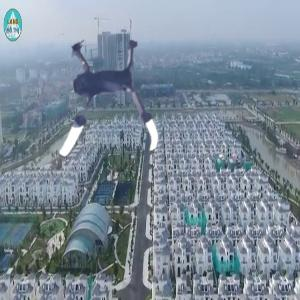drone: (25, 21, 180, 176)
